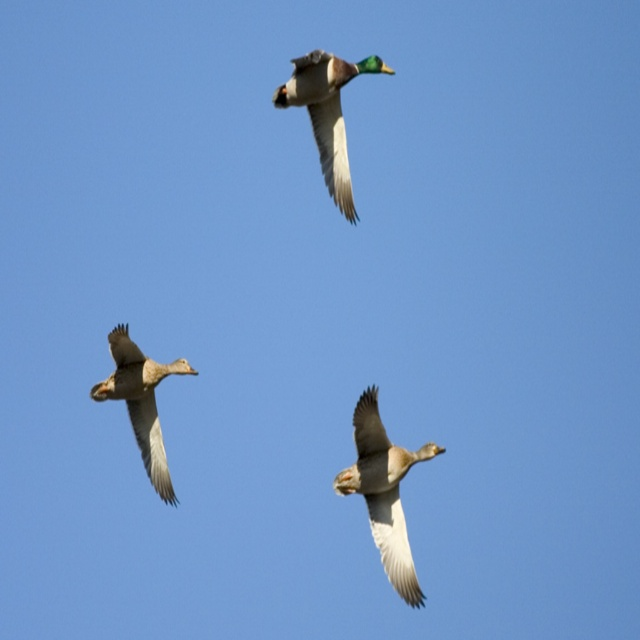Duck: (334, 382, 444, 602), (269, 42, 390, 238), (85, 319, 200, 508)
